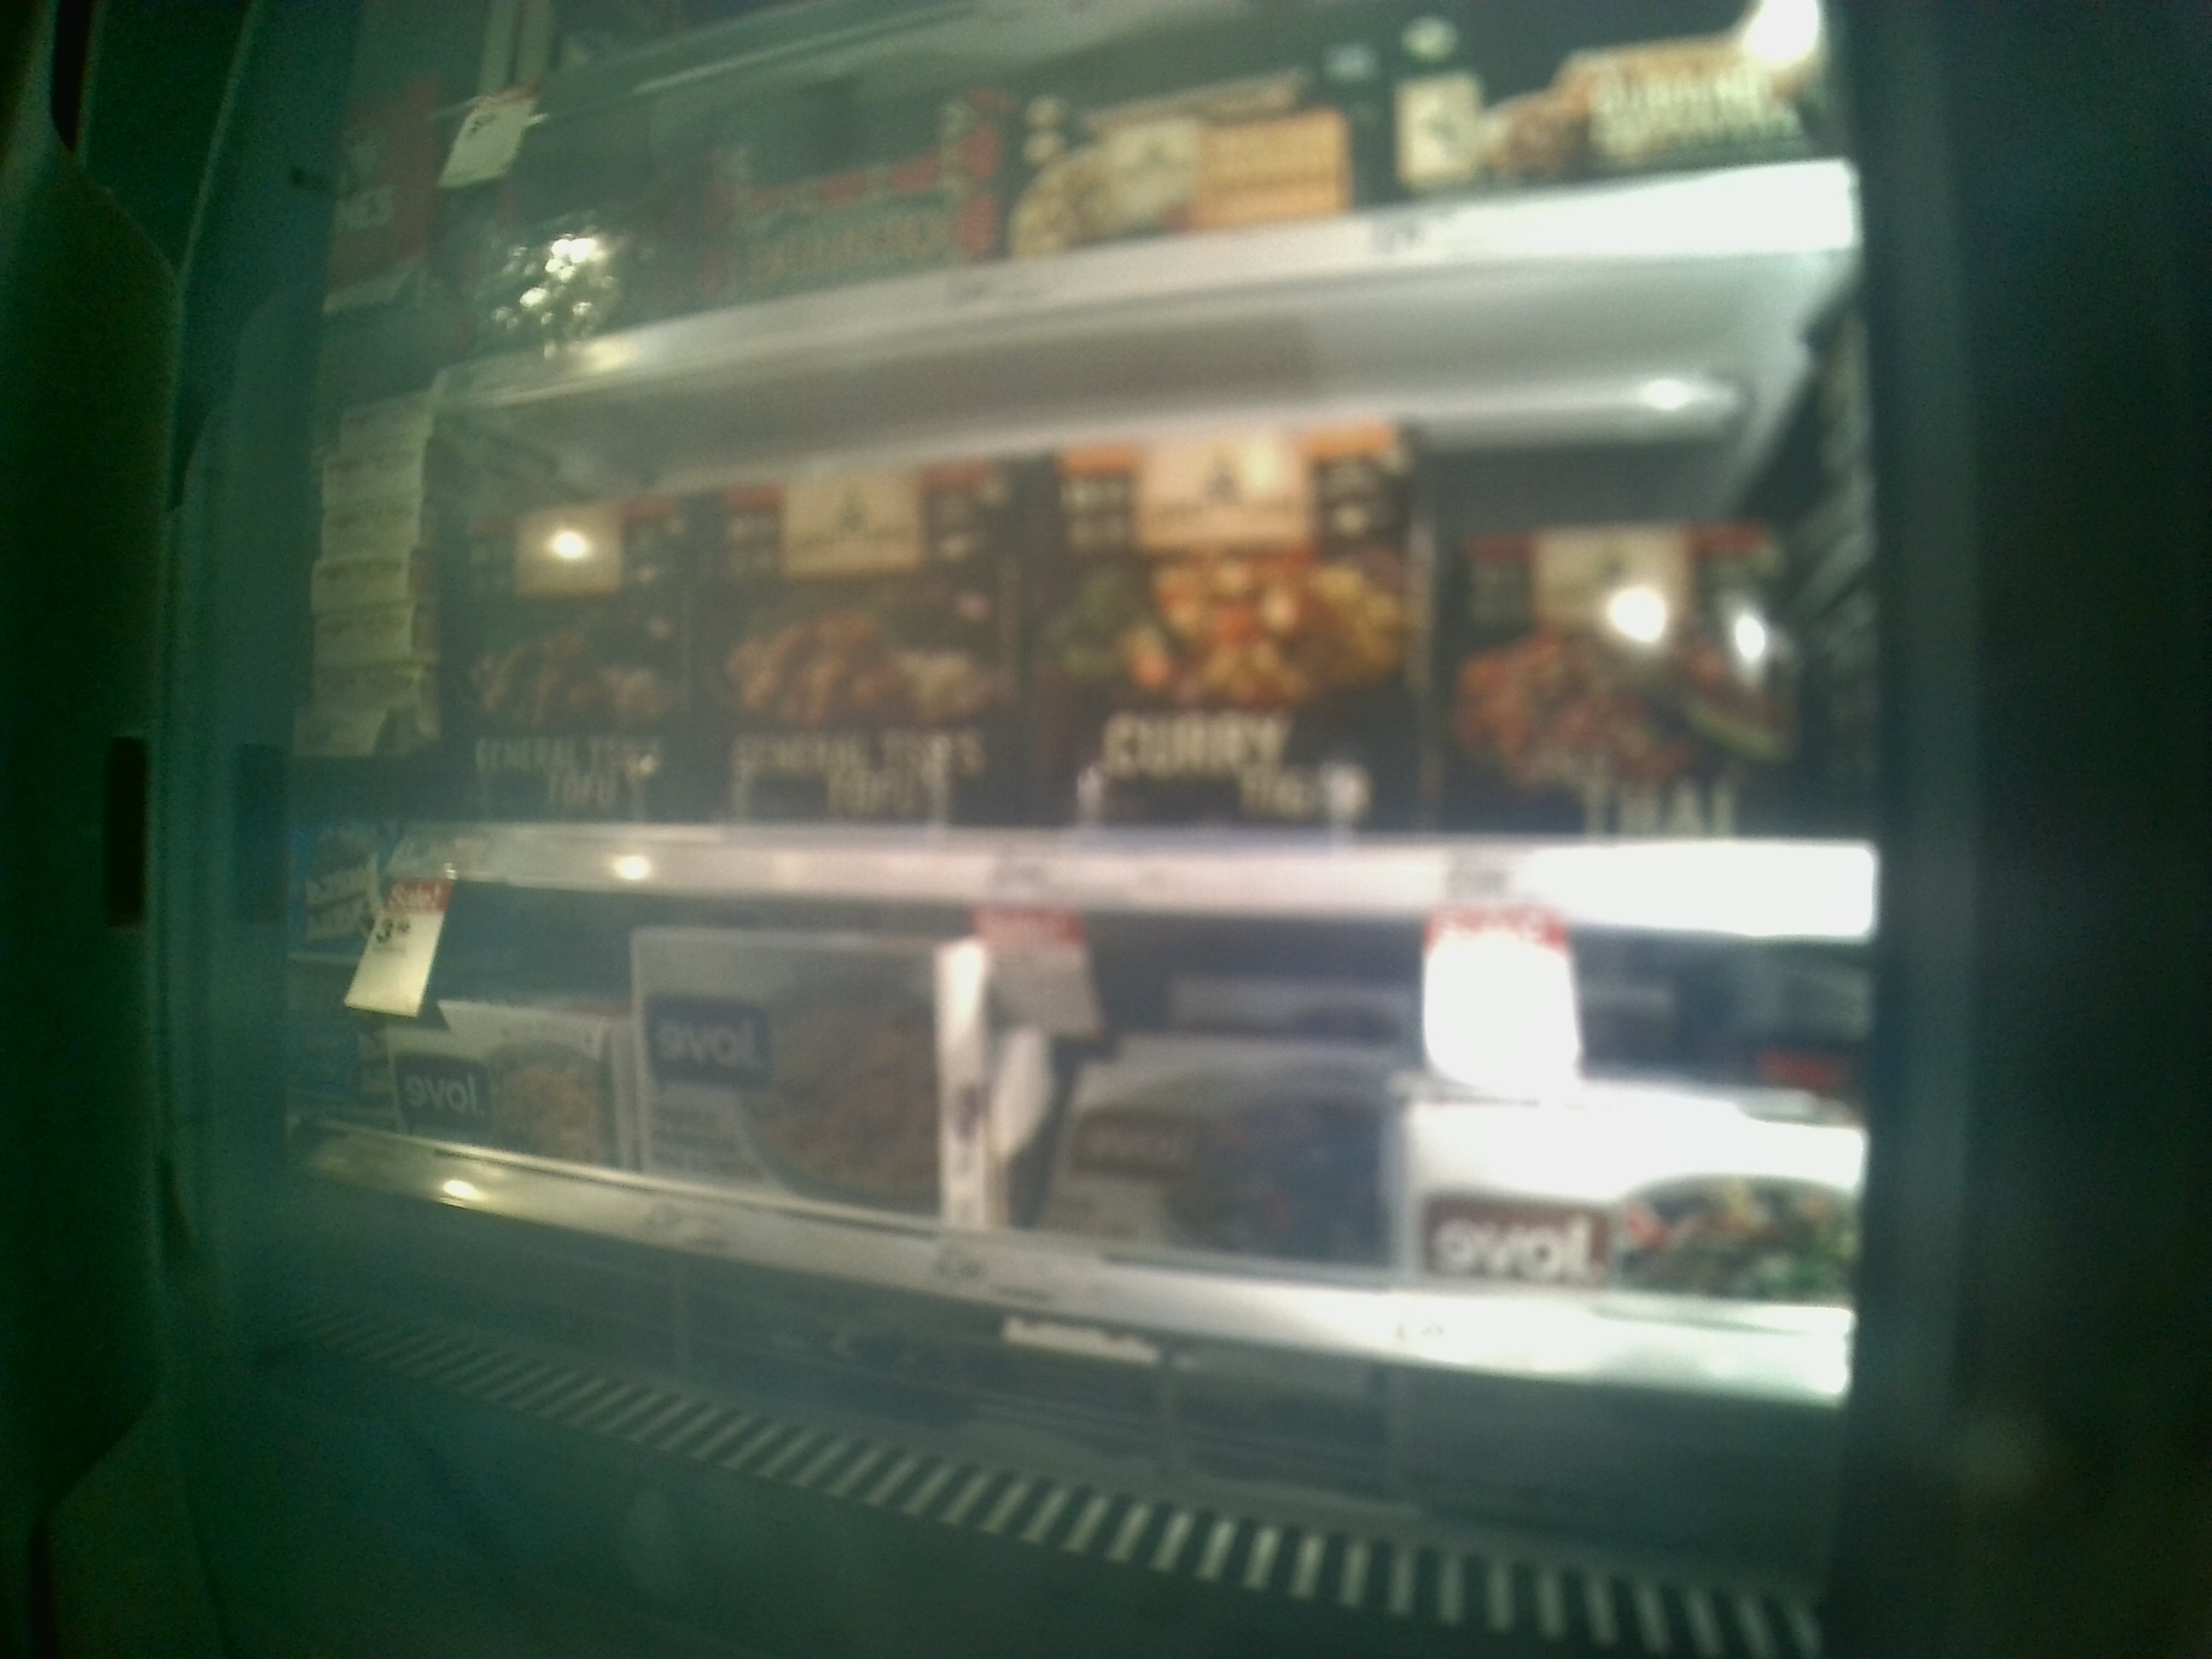frozen-food-shelf: (270, 924, 1850, 1410), (348, 460, 1886, 943)
